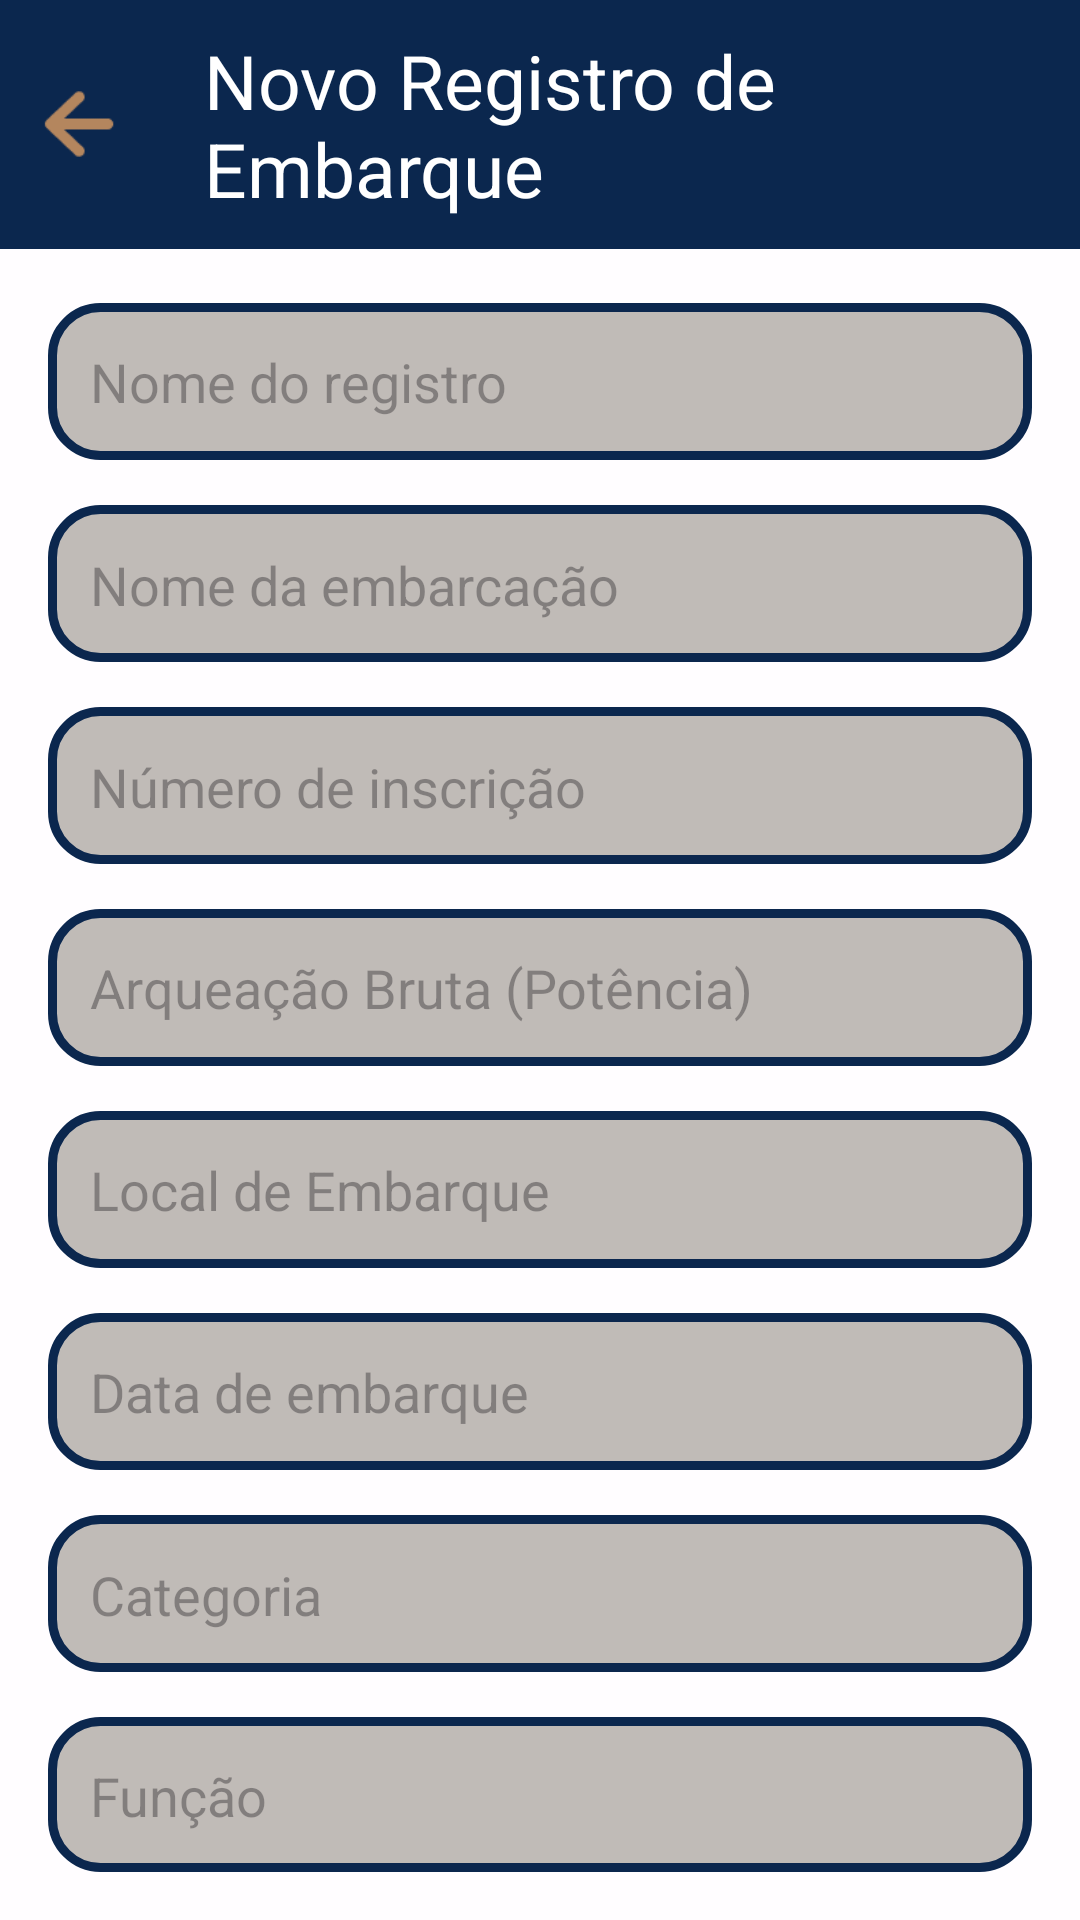

Named icons in this screenshot (1080w x 1920h) and their centers, point (x, y):
Voltar: point (79, 124)
